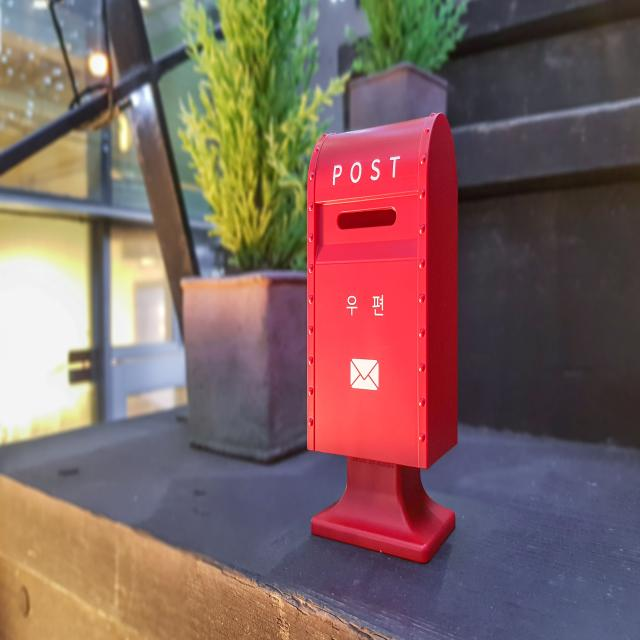Post Box: (304, 111, 459, 563)
